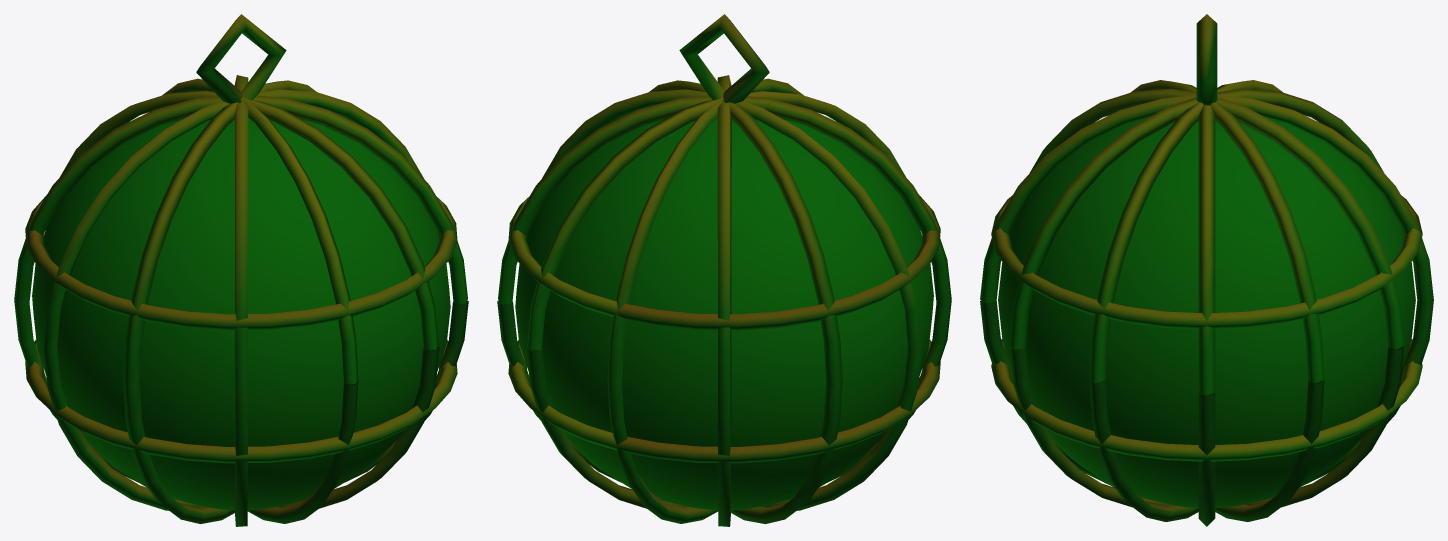
The model's file is shrine_charm_net_float.glb.
The picture shows the model from 3 angles, left to right: view 1: azimuth 30°, elevation 25°; view 2: azimuth 150°, elevation 25°; view 3: azimuth 270°, elevation 25°; orthographic projection.
Visible parts, largest first — view 1: shrine_charm_net_float; view 2: shrine_charm_net_float; view 3: shrine_charm_net_float.
Part boxes in pixels (x1,y1,x2,y2): shrine_charm_net_float: (14,14,468,526); shrine_charm_net_float: (497,14,951,526); shrine_charm_net_float: (980,14,1433,526).
Size of what is drawn, in the model's own units: 0.0654 by 0.0782 by 0.0654.
